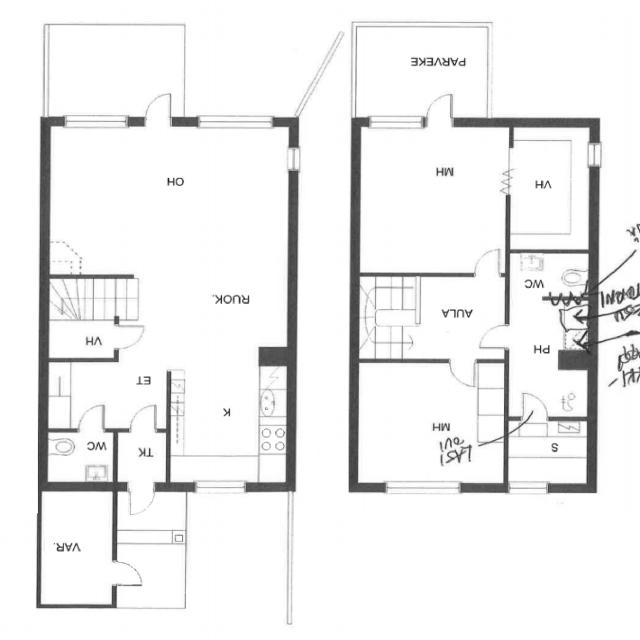door: (385, 96, 459, 134), (422, 90, 460, 133), (140, 90, 178, 129), (108, 556, 149, 592), (515, 389, 552, 426), (473, 321, 514, 354), (444, 355, 481, 391), (469, 244, 505, 280), (126, 400, 161, 435), (110, 320, 147, 353), (125, 483, 159, 518), (75, 403, 108, 435)
window: (190, 108, 281, 135), (376, 476, 468, 501), (54, 109, 132, 134), (361, 111, 428, 134), (187, 477, 252, 497), (504, 479, 553, 499), (585, 139, 605, 173), (285, 142, 303, 176)
zone: (41, 120, 299, 289), (356, 121, 510, 275), (353, 358, 509, 490), (166, 356, 292, 488), (356, 273, 512, 363), (507, 124, 593, 250), (507, 248, 595, 358), (38, 488, 115, 608), (43, 358, 166, 431), (504, 416, 594, 491), (501, 358, 594, 421), (44, 429, 116, 486), (40, 318, 122, 362), (116, 428, 170, 490)
